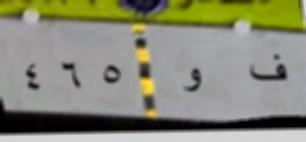4: (21, 57, 46, 100)
5: (97, 57, 126, 93)
6: (58, 57, 85, 94)
faa: (244, 48, 291, 87)
waw: (180, 62, 206, 98)
